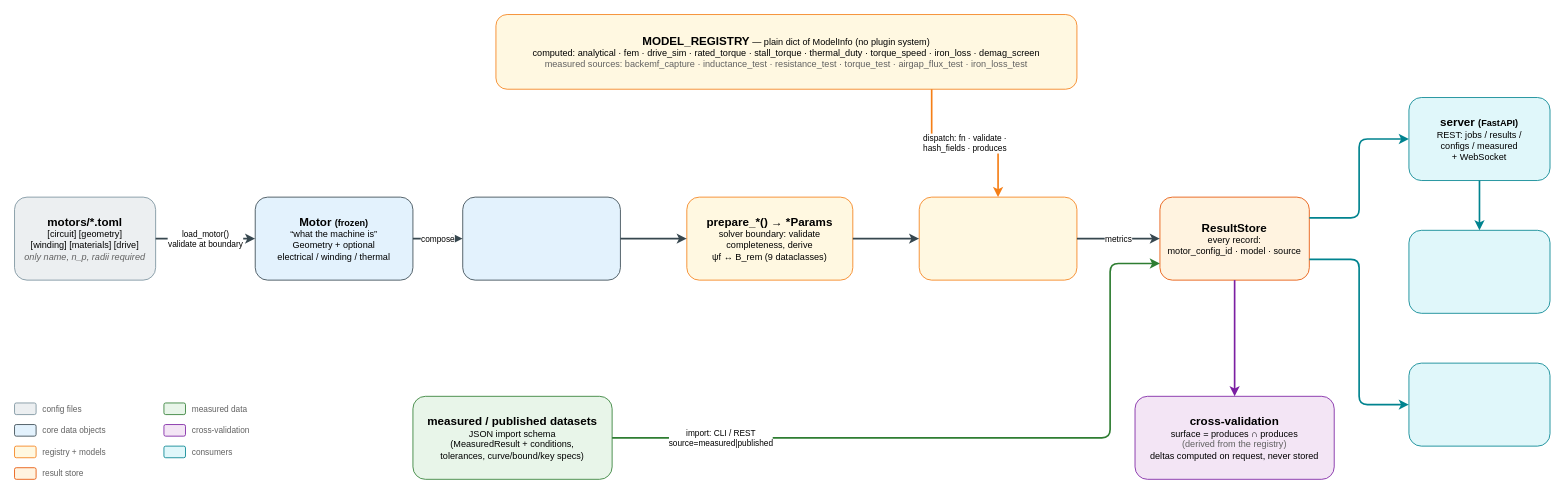
Image size: 1565x496. Some labels were removed from this diagram. Each missing label, with the centre of its shape:
CLI phasesweep-crossval phasesweep-import calibrate loop: pixel 1479 404
dashboard no-build-step JS panels auto-discover models via produces: pixel 1479 271
model fn RunConfig → metrics dict (the model’s produces set): pixel 997 238
RunConfig “how to run the analysis” Motor + model key + solver params: pixel 541 238
